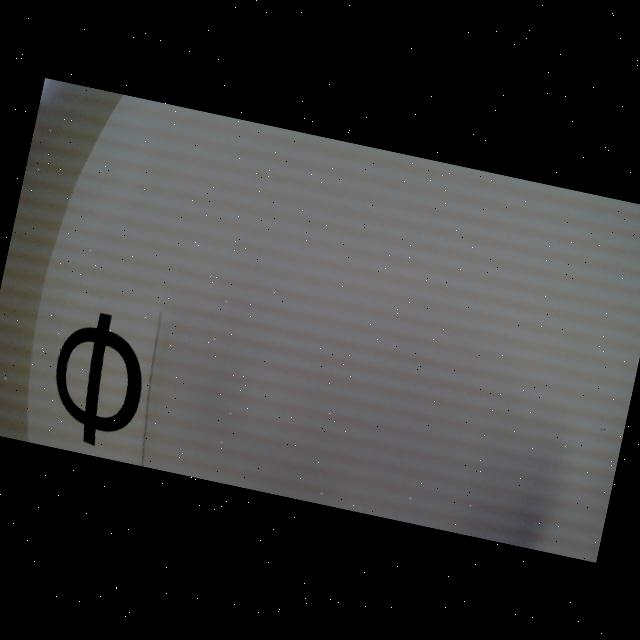PHI: (42, 305, 156, 452)
